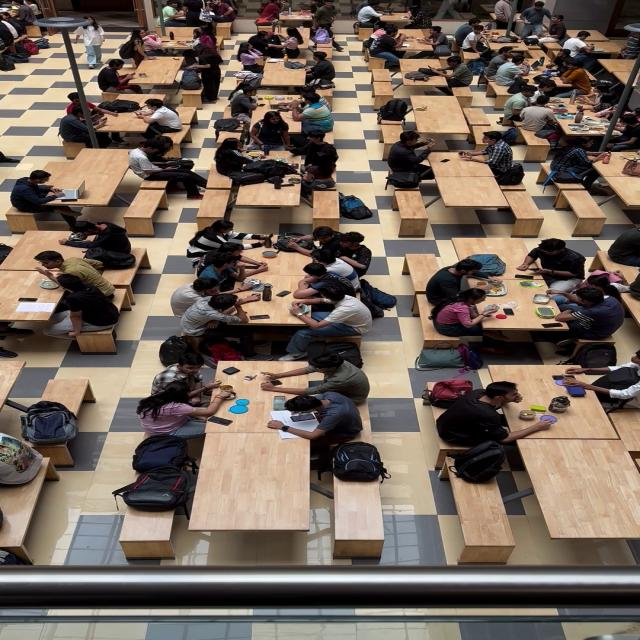Unoccupied: (571, 216, 620, 261), (516, 220, 548, 253)
